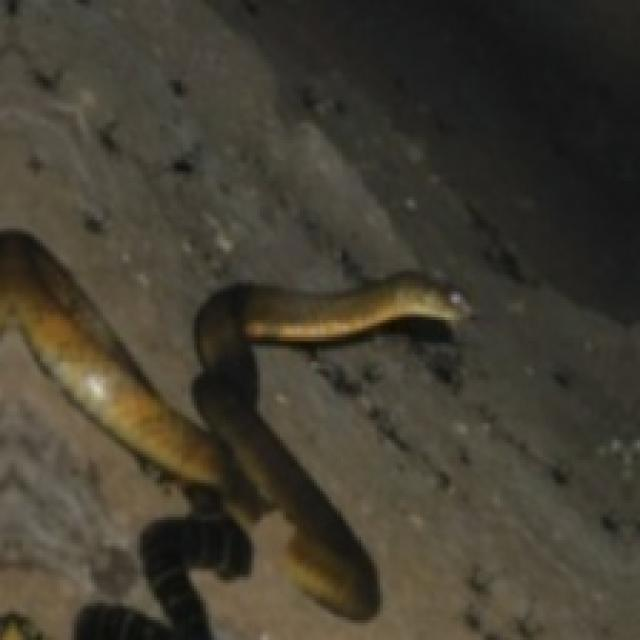king cobra: (0, 231, 466, 637)
